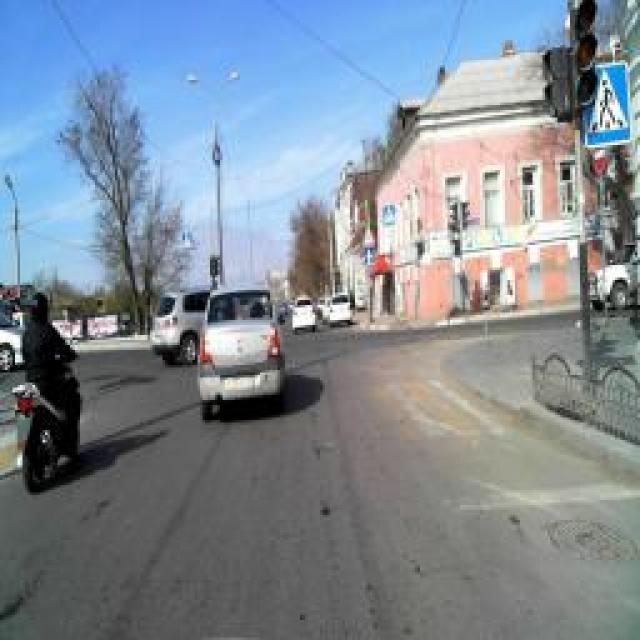sign: (592, 142, 608, 176)
